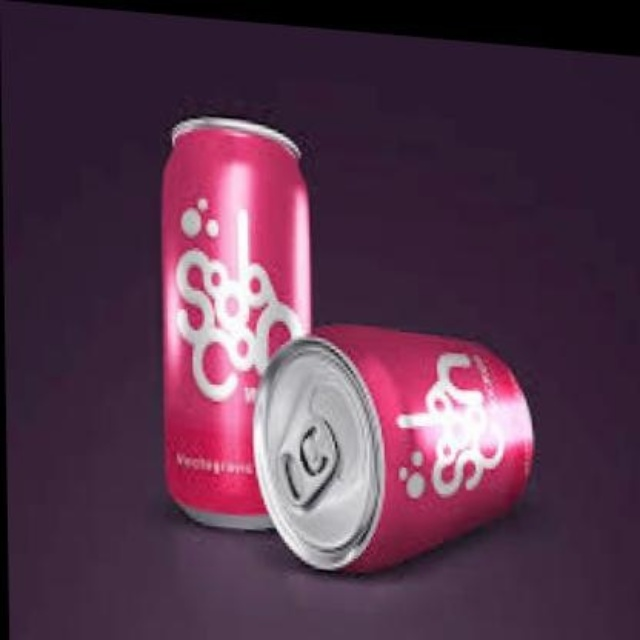trash: (254, 326, 531, 571), (163, 117, 309, 528)
